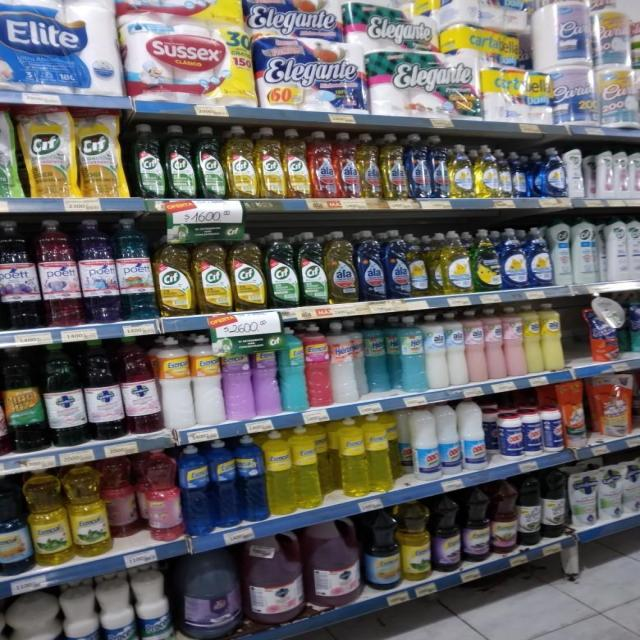ala_conc_amarillo: (327, 230, 356, 304), (381, 133, 406, 199), (358, 133, 381, 199)
ala_conc_azul: (358, 230, 384, 302), (385, 230, 409, 300), (407, 134, 429, 198), (430, 134, 448, 198)
ala_conc_rojo: (310, 130, 336, 199), (336, 132, 358, 198)
ala_crem_amarillo: (542, 302, 564, 372), (524, 304, 542, 374)
ala_crem_blanco: (425, 313, 447, 389), (446, 311, 466, 386)
ala_crem_rosado: (466, 309, 486, 383), (504, 306, 524, 378), (486, 307, 504, 380)
cif_conc_bot_amarilla: (157, 226, 193, 317), (195, 233, 229, 314), (231, 231, 264, 311), (225, 125, 256, 199), (256, 127, 283, 199), (283, 128, 309, 199)
cif_conc_botella_verde: (131, 123, 164, 199), (266, 231, 297, 309), (165, 124, 194, 200), (298, 231, 326, 306), (196, 125, 224, 198)
cif_conc_sachet_amarillo: (23, 105, 74, 198), (77, 108, 125, 198)
cif_conc_sachet_verde: (0, 105, 19, 198)
heroe: (330, 320, 358, 404), (363, 317, 388, 394), (399, 316, 424, 392)
magistral_con_amarillo: (441, 230, 471, 294), (429, 232, 451, 296), (409, 232, 429, 298), (449, 144, 473, 198), (474, 144, 498, 198), (498, 147, 510, 198)
magistral_con_azul: (500, 228, 527, 290), (527, 226, 551, 288), (544, 147, 566, 198), (511, 151, 528, 198)
magistral_con_crema: (552, 219, 571, 286)
